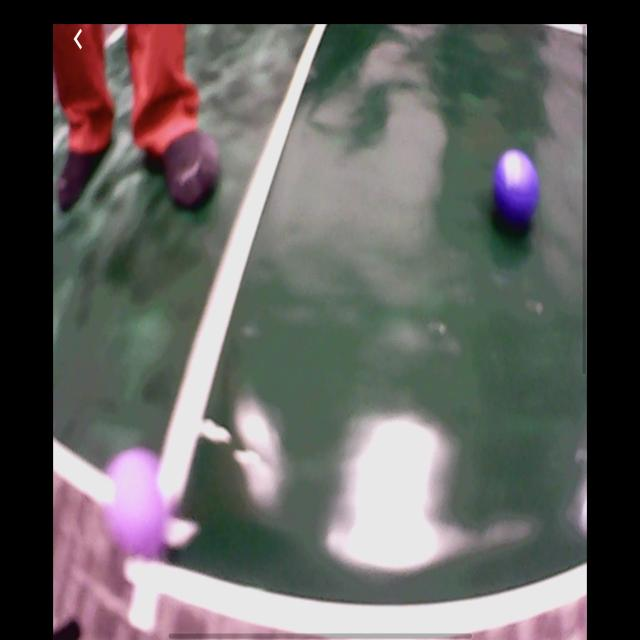ball: (105, 448, 167, 555), (492, 147, 538, 232)
